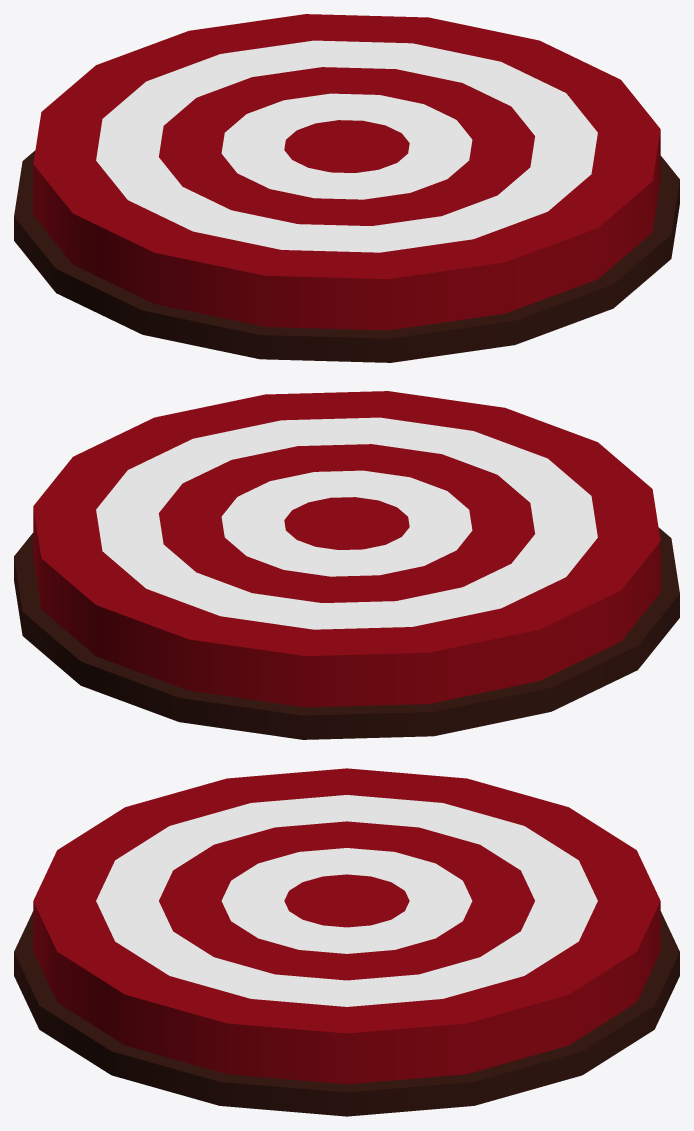
Rendered from Target.fbx.
The picture shows the model from 3 angles, top to bottom: view 1: azimuth 30°, elevation 25°; view 2: azimuth 150°, elevation 25°; view 3: azimuth 270°, elevation 25°; orthographic projection.
Parts seen in each view (by area): view 1: Cylinder001; view 2: Cylinder001; view 3: Cylinder001.
Boxes of the visible parts, x1,y1,x2,y2 form: Cylinder001: [14, 14, 679, 362]; Cylinder001: [14, 391, 679, 739]; Cylinder001: [14, 768, 679, 1116].
Bounding box in the file's own units: 87.9 × 10.91 × 87.9.
